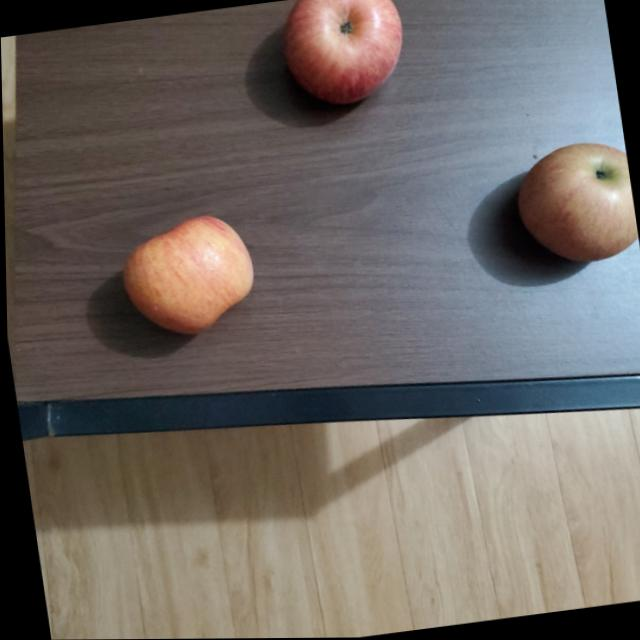apple: (116, 210, 263, 344), (507, 137, 637, 270), (276, 0, 408, 107)
